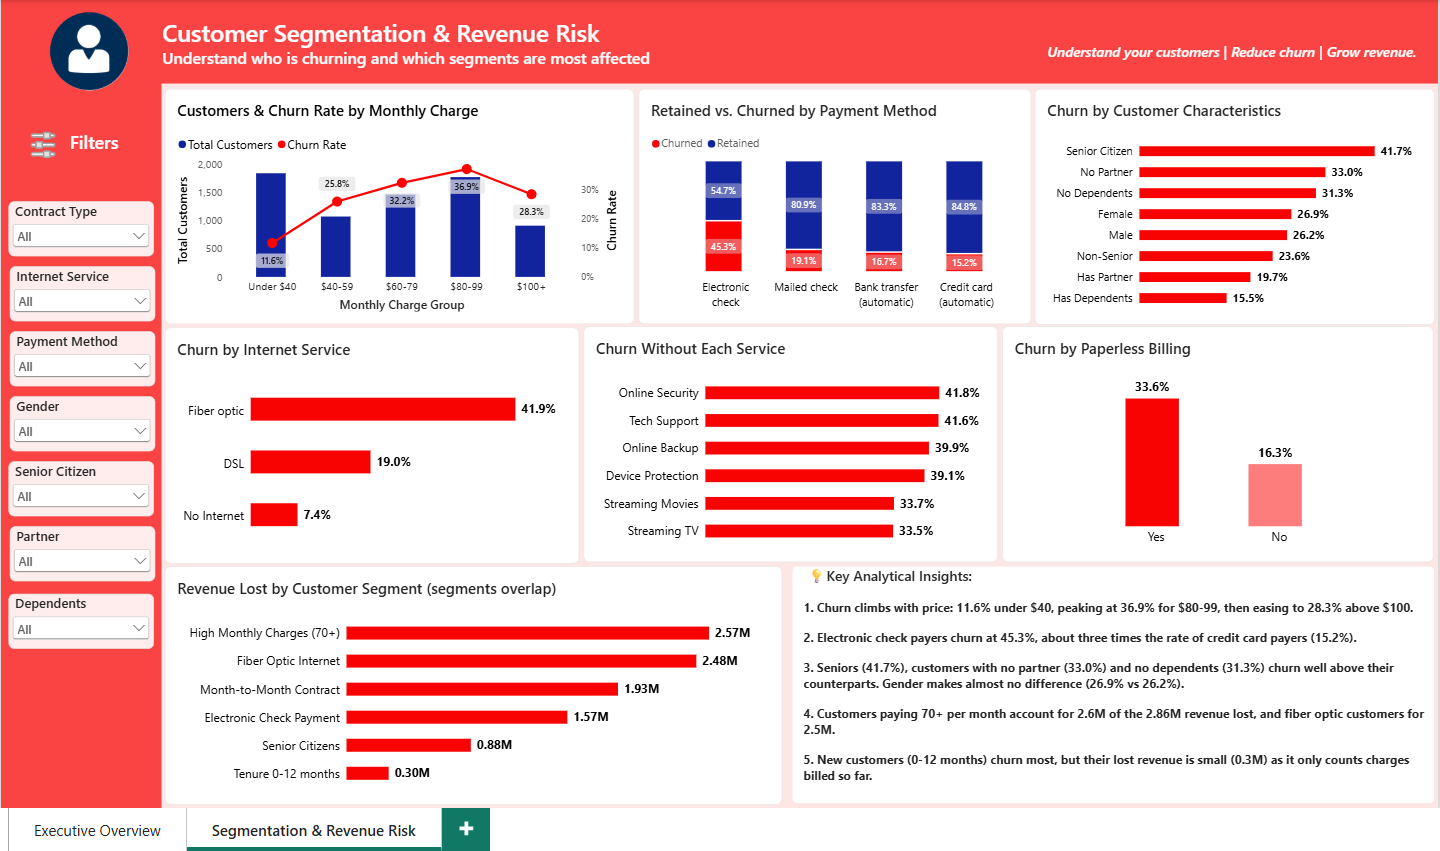

The page's visual inventory and layout, read from the dashboard file:
{"tool":"powerbi","page":{"name":"Segmentation & Revenue Risk","canvas":[1920,1080],"ordinal":1},"visuals":[{"type":"shape","box":[0,0,214.5,1079.7],"z":0},{"type":"shape","box":[0,0,1920.4,111.6],"z":1000},{"type":"image","box":[61,10.5,111.6,113.4],"z":2000},{"type":"textbox","box":[215.3,22.1,598.2,60.7],"z":3000},{"type":"textbox","box":[215.3,62.6,714.1,49.7],"z":4000},{"type":"textbox","box":[1397.1,57.6,523.3,50.6],"z":5000},{"type":"image","box":[20.3,168.2,72.1,49.9],"z":6000},{"type":"textbox","box":[92.4,173.7,89,48.8],"z":7000},{"type":"slicer","fields":{"Values":["Customers.contract"]},"box":[9.2,268,194.1,73.9],"z":8000},{"type":"slicer","fields":{"Values":["Customers.internet_service"]},"box":[11.1,354.9,194.1,73.9],"z":9000},{"type":"slicer","fields":{"Values":["Customers.payment_method"]},"box":[11.1,441.7,194.1,73.9],"z":10000},{"type":"slicer","fields":{"Values":["Customers.gender"]},"box":[11.1,528.6,194.1,73.9],"z":11000},{"type":"slicer","fields":{"Values":["Customers.Senior Citizen Status"]},"box":[9.2,615.5,194.1,73.9],"z":12000},{"type":"slicer","fields":{"Values":["Customers.partner"]},"box":[11.1,702.4,194.1,73.9],"z":13000},{"type":"slicer","fields":{"Values":["Customers.dependents"]},"box":[9.2,792.9,194.1,73.9],"z":14000},{"type":"hundredPercentStackedColumnChart","title":"Retained vs. Churned by Payment Method","fields":{"Category":["Customers.payment_method"],"Series":["Customers.Churn Status"],"Y":["Customers.Total Customers"]},"box":[851,117.8,525,314.7],"z":15000},{"type":"clusteredBarChart","title":"Churn by Customer Characteristics","fields":{"Category":["Customer Segments.Segment"],"Y":["Customer Segments.Segment Churn Rate"]},"box":[1381,117.8,534,315],"z":16000},{"type":"clusteredBarChart","title":"Churn by Internet Service","fields":{"Category":["Customers.Internet Service Type"],"Y":["Customers.Churn Rate"]},"box":[219,437,554,315],"z":17000},{"type":"clusteredBarChart","title":"Churn Without Each Service","fields":{"Category":["Service Types.Service"],"Y":["Service Types.Service Churn Rate"]},"box":[778.5,436.2,554,315],"z":18000},{"type":"clusteredColumnChart","title":"Churn by Paperless Billing","fields":{"Category":["Customers.paperless_billing"],"Y":["Customers.Churn Rate"]},"box":[1338,436.2,576.1,315],"z":19000},{"type":"clusteredBarChart","title":"Revenue Lost by Customer Segment (segments overlap)","fields":{"Category":["Revenue Segments.Segment"],"Y":["Revenue Segments.Segment Revenue Lost"]},"box":[219,756.4,824.5,318.4],"z":20000},{"type":"shape","box":[1056.4,756.4,857.7,316.6],"z":21000},{"type":"textbox","box":[1071.2,756.4,830.1,318.4],"z":22000},{"type":"lineClusteredColumnComboChart","title":"Customers & Churn Rate by Monthly Charge","fields":{"Category":["Customers.Monthly Charge Group"],"Y":["Customers.Total Customers"],"Y2":["Customers.Churn Rate"]},"box":[219,117.8,627,314.7],"z":23000}]}

Visuals, with their boxes on the page's 1920x1080 design canvas (x1, y1, x2, y2). These are canvas units, not pixel positions in the 1440x851 screenshot, which may show the page scaled, cropped or inside an application window:
shape: {"left": 0, "top": 0, "right": 214, "bottom": 1080}
shape: {"left": 0, "top": 0, "right": 1920, "bottom": 112}
image: {"left": 61, "top": 10, "right": 173, "bottom": 124}
textbox: {"left": 215, "top": 22, "right": 814, "bottom": 83}
textbox: {"left": 215, "top": 63, "right": 929, "bottom": 112}
textbox: {"left": 1397, "top": 58, "right": 1920, "bottom": 108}
image: {"left": 20, "top": 168, "right": 92, "bottom": 218}
textbox: {"left": 92, "top": 174, "right": 181, "bottom": 222}
slicer - Customers.contract: {"left": 9, "top": 268, "right": 203, "bottom": 342}
slicer - Customers.internet_service: {"left": 11, "top": 355, "right": 205, "bottom": 429}
slicer - Customers.payment_method: {"left": 11, "top": 442, "right": 205, "bottom": 516}
slicer - Customers.gender: {"left": 11, "top": 529, "right": 205, "bottom": 602}
slicer - Customers.Senior Citizen Status: {"left": 9, "top": 616, "right": 203, "bottom": 689}
slicer - Customers.partner: {"left": 11, "top": 702, "right": 205, "bottom": 776}
slicer - Customers.dependents: {"left": 9, "top": 793, "right": 203, "bottom": 867}
"Retained vs. Churned by Payment Method" hundredPercentStackedColumnChart: {"left": 851, "top": 118, "right": 1376, "bottom": 432}
"Churn by Customer Characteristics" clusteredBarChart: {"left": 1381, "top": 118, "right": 1915, "bottom": 433}
"Churn by Internet Service" clusteredBarChart: {"left": 219, "top": 437, "right": 773, "bottom": 752}
"Churn Without Each Service" clusteredBarChart: {"left": 778, "top": 436, "right": 1332, "bottom": 751}
"Churn by Paperless Billing" clusteredColumnChart: {"left": 1338, "top": 436, "right": 1914, "bottom": 751}
"Revenue Lost by Customer Segment (segments overlap)" clusteredBarChart: {"left": 219, "top": 756, "right": 1044, "bottom": 1075}
shape: {"left": 1056, "top": 756, "right": 1914, "bottom": 1073}
textbox: {"left": 1071, "top": 756, "right": 1901, "bottom": 1075}
"Customers & Churn Rate by Monthly Charge" lineClusteredColumnComboChart: {"left": 219, "top": 118, "right": 846, "bottom": 432}
